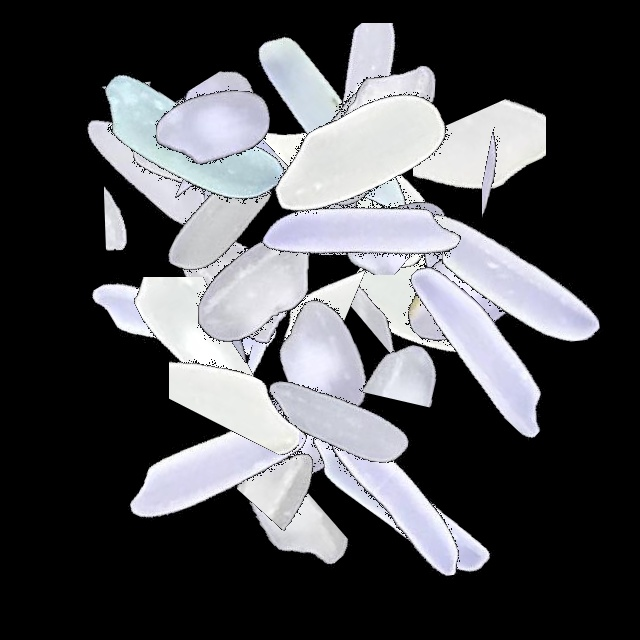Broken: (221, 81, 471, 255), (347, 189, 520, 439), (154, 35, 326, 285), (223, 318, 394, 568), (370, 238, 620, 408), (267, 23, 517, 188), (245, 38, 408, 288), (32, 277, 282, 425), (55, 69, 305, 216), (125, 465, 375, 610), (236, 133, 486, 275), (413, 58, 546, 308), (169, 233, 299, 483), (237, 336, 365, 586), (87, 17, 210, 267), (94, 118, 344, 230), (349, 220, 458, 470), (170, 95, 277, 345), (298, 256, 548, 362), (168, 345, 418, 449), (172, 250, 422, 352), (214, 175, 313, 425), (482, 66, 579, 316), (104, 67, 197, 317), (27, 489, 277, 574), (80, 0, 161, 250), (181, 114, 431, 194)
Full: (60, 192, 310, 442), (216, 69, 466, 319), (347, 146, 597, 396), (167, 323, 417, 573), (210, 0, 460, 250), (110, 164, 360, 414), (20, 49, 270, 299), (100, 84, 350, 334), (274, 379, 524, 629), (272, 378, 522, 628), (92, 344, 342, 594), (194, 234, 444, 484), (74, 42, 324, 292), (214, 299, 464, 549), (128, 160, 378, 410), (236, 16, 486, 266), (258, 0, 508, 250), (390, 153, 640, 403), (356, 224, 606, 474), (62, 16, 312, 266), (239, 112, 489, 362), (89, 0, 339, 250), (229, 27, 479, 277)
